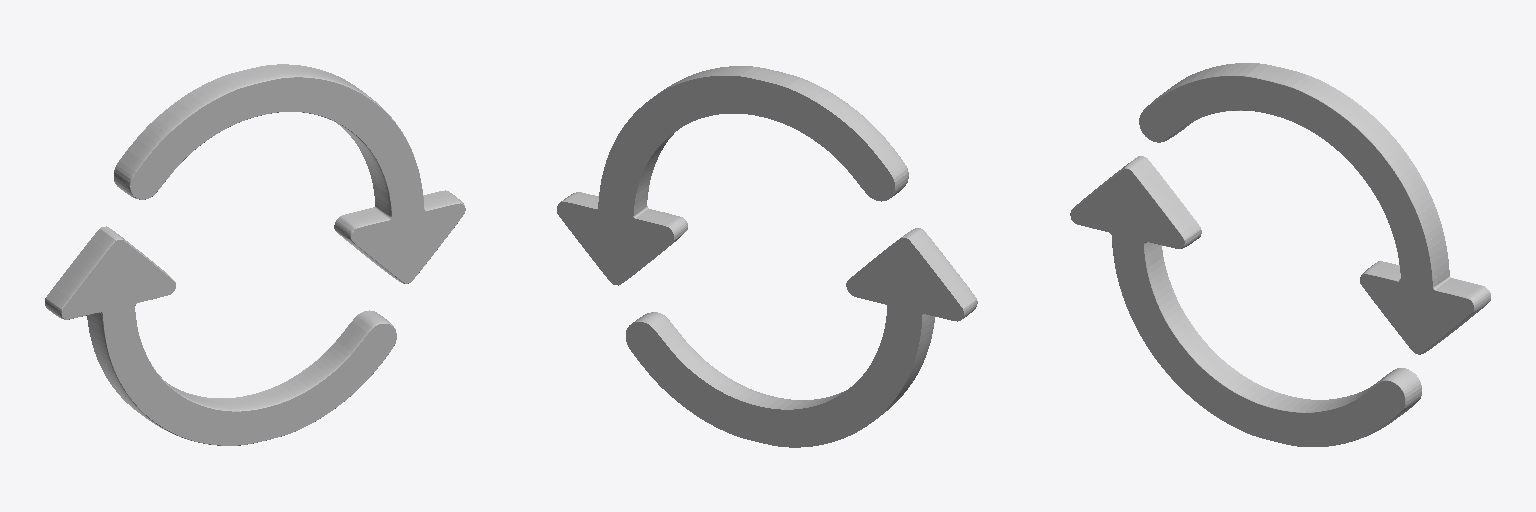
File: arrows2.obj
3 renders of one model, left to right at view 1: azimuth 30°, elevation 25°; view 2: azimuth 150°, elevation 25°; view 3: azimuth 330°, elevation 25°, orthographic.
Parts seen in each view (by area): view 1: Object.1, Object.2; view 2: Object.2, Object.1; view 3: Object.1, Object.2.
Boxes of the visible parts, box(x1,y1,x2,y2) form: Object.1: box(114, 64, 465, 283); Object.2: box(45, 226, 396, 445); Object.2: box(626, 228, 977, 447); Object.1: box(557, 66, 908, 285); Object.1: box(1139, 63, 1490, 354); Object.2: box(1070, 156, 1421, 446).
Bounding box in the file's own units: 74.76 × 63.63 × 4.87.